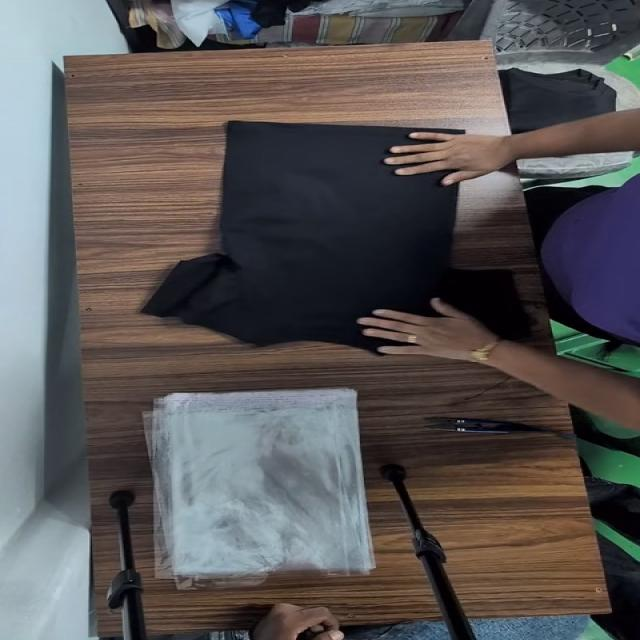new-garment: (144, 122, 528, 352), (141, 121, 505, 350)
